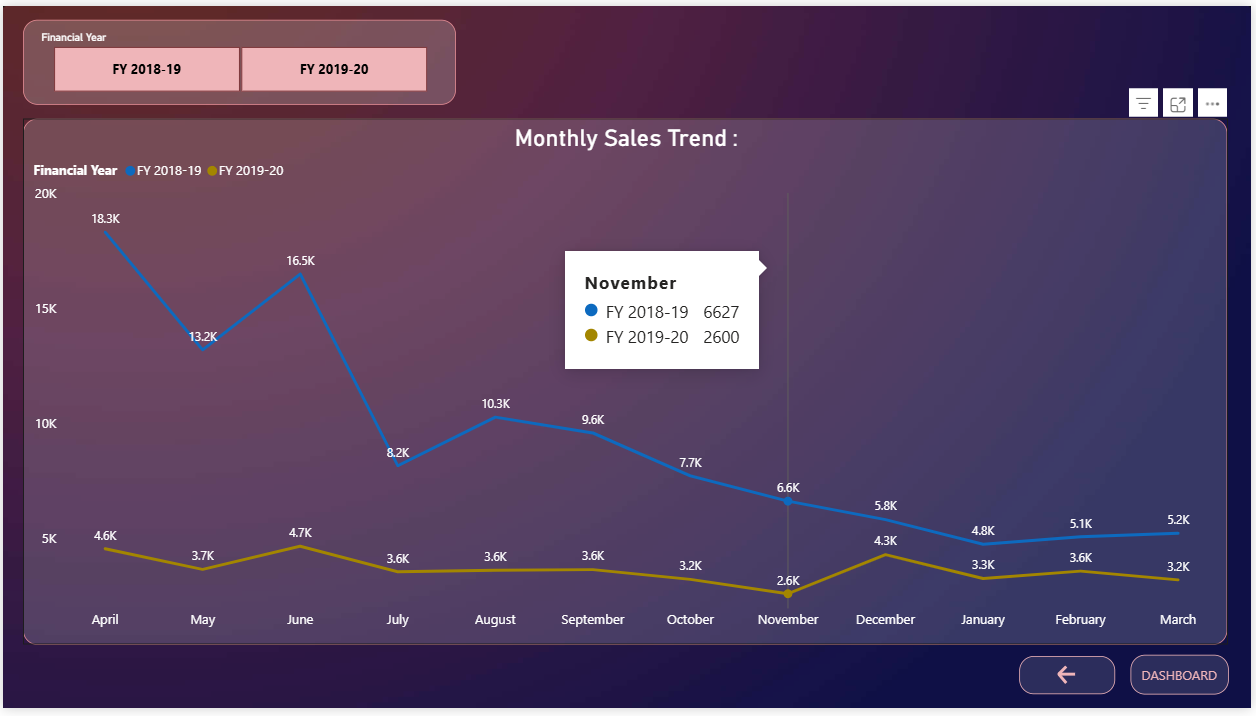

The page's visual inventory and layout, read from the dashboard file:
{"tool":"powerbi","page":{"name":"Dashboard 11","canvas":[1280,720],"ordinal":10},"visuals":[{"type":"actionButton","box":[1155.8,665,100.6,40.5],"z":0},{"type":"actionButton","box":[1041.7,666.3,98.2,39.3],"z":1000},{"type":"lineChart","fields":{"Category":["Orders.Month Name for FY"],"Y":["Details.Total Sales"],"Series":["Orders.Financial Year"]},"box":[20.9,115.3,1235.6,539.9],"z":2000},{"type":"slicer","fields":{"Values":["Orders.Financial Year"]},"box":[20.9,13.5,444.2,87.1],"z":3000}]}

Visuals, with their boxes in screenshot pixels (x1, y1, x2, y2), scaled from the page's 1280x720 canvas onto the 1256x716 screenshot:
actionButton: BBox(1134, 661, 1233, 702)
actionButton: BBox(1022, 663, 1119, 702)
lineChart - Orders.Month Name for FY x Details.Total Sales: BBox(21, 115, 1233, 652)
slicer - Orders.Financial Year: BBox(21, 13, 456, 100)
